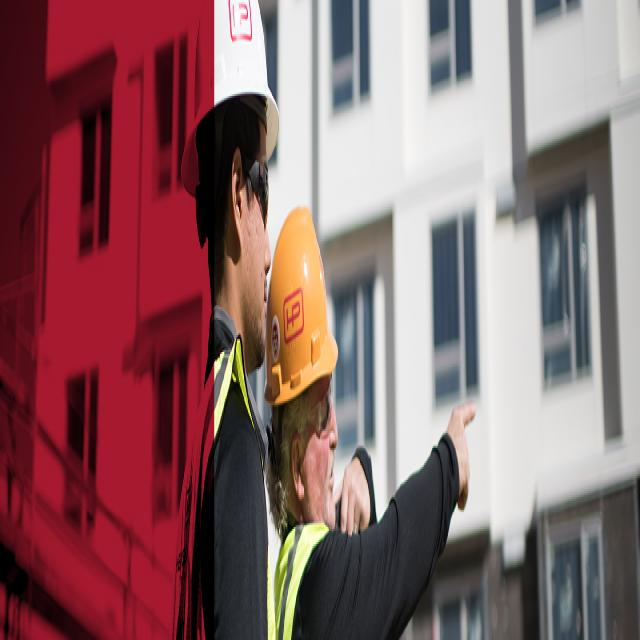Reflective-Jacket: (213, 295, 271, 640), (166, 320, 212, 640), (273, 512, 339, 638)
Safety-Helmet: (178, 2, 282, 203), (266, 192, 340, 408)
